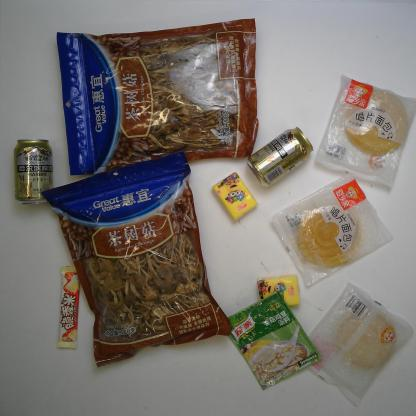Alcohol: (247, 126, 314, 188), (14, 138, 54, 205)
Chocolate: (56, 265, 81, 350)
Dessert: (269, 172, 396, 288), (301, 282, 415, 406), (314, 73, 415, 190)
Dried Food: (40, 150, 233, 367), (56, 17, 259, 176)
Seasoner: (224, 288, 323, 392)
Tissue: (212, 172, 258, 222), (256, 274, 301, 306)
